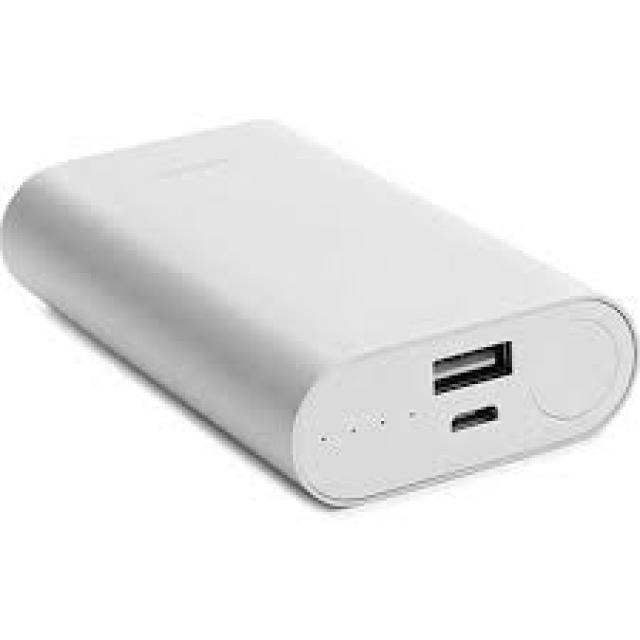portable-charger: (0, 117, 640, 512)
